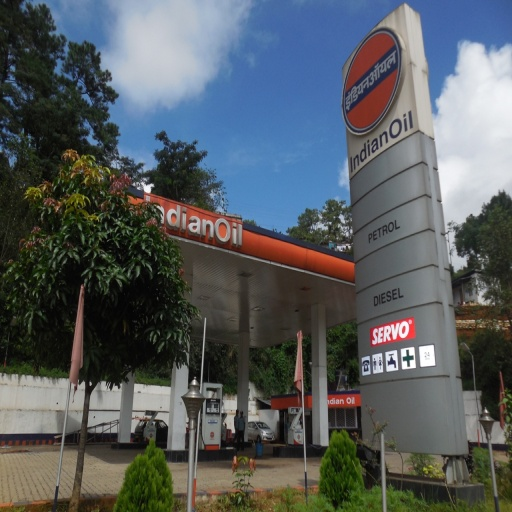roof: (106, 174, 386, 349)
